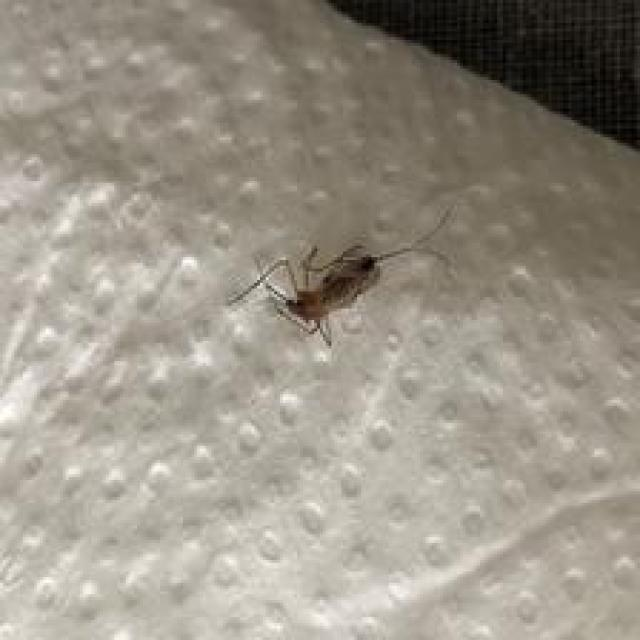Culex: (226, 203, 457, 348)
